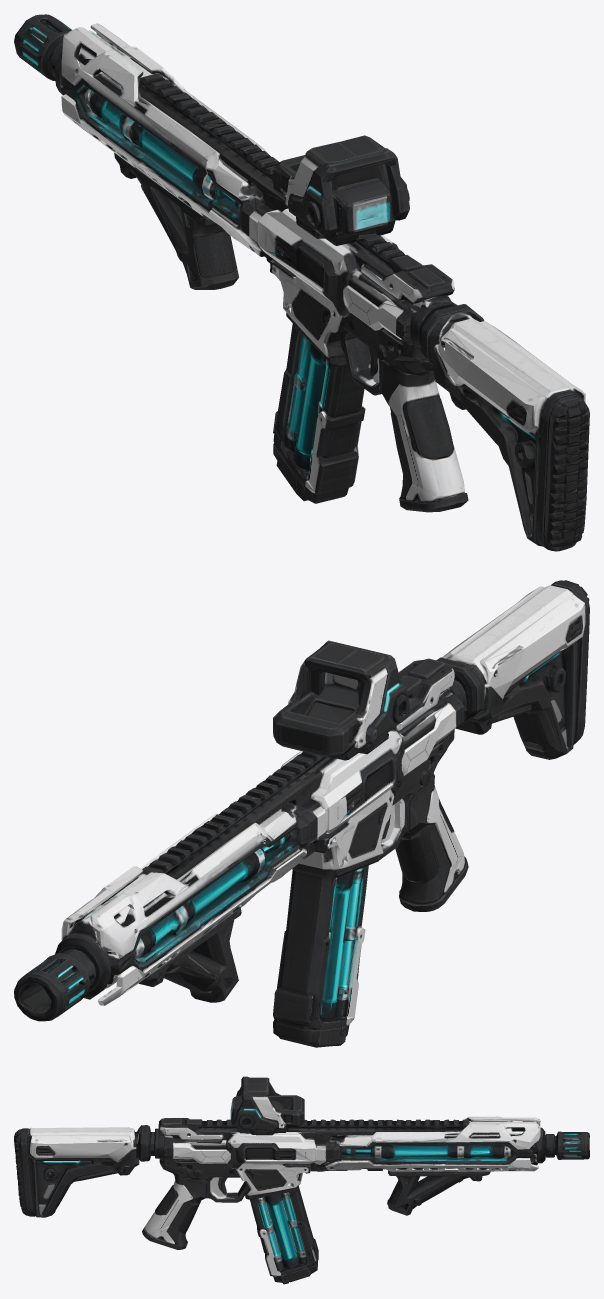
Rendered from rifle-fusion.glb.
3 views of the same model, one above another, from view 1: azimuth 30°, elevation 25°; view 2: azimuth 150°, elevation 25°; view 3: azimuth 270°, elevation 25° (orthographic). The views are drawn at different scales.
Parts seen in each view (by area): view 1: output_unwrapped; view 2: output_unwrapped; view 3: output_unwrapped.
Part boxes in pixels (left/top/right/bottom): output_unwrapped: left=14, top=14, right=589, bottom=551; output_unwrapped: left=14, top=580, right=589, bottom=1047; output_unwrapped: left=14, top=1076, right=589, bottom=1284.
Bounding box in the file's own units: 0.1124 × 0.4257 × 1.14.
1 material, 1 textured.
